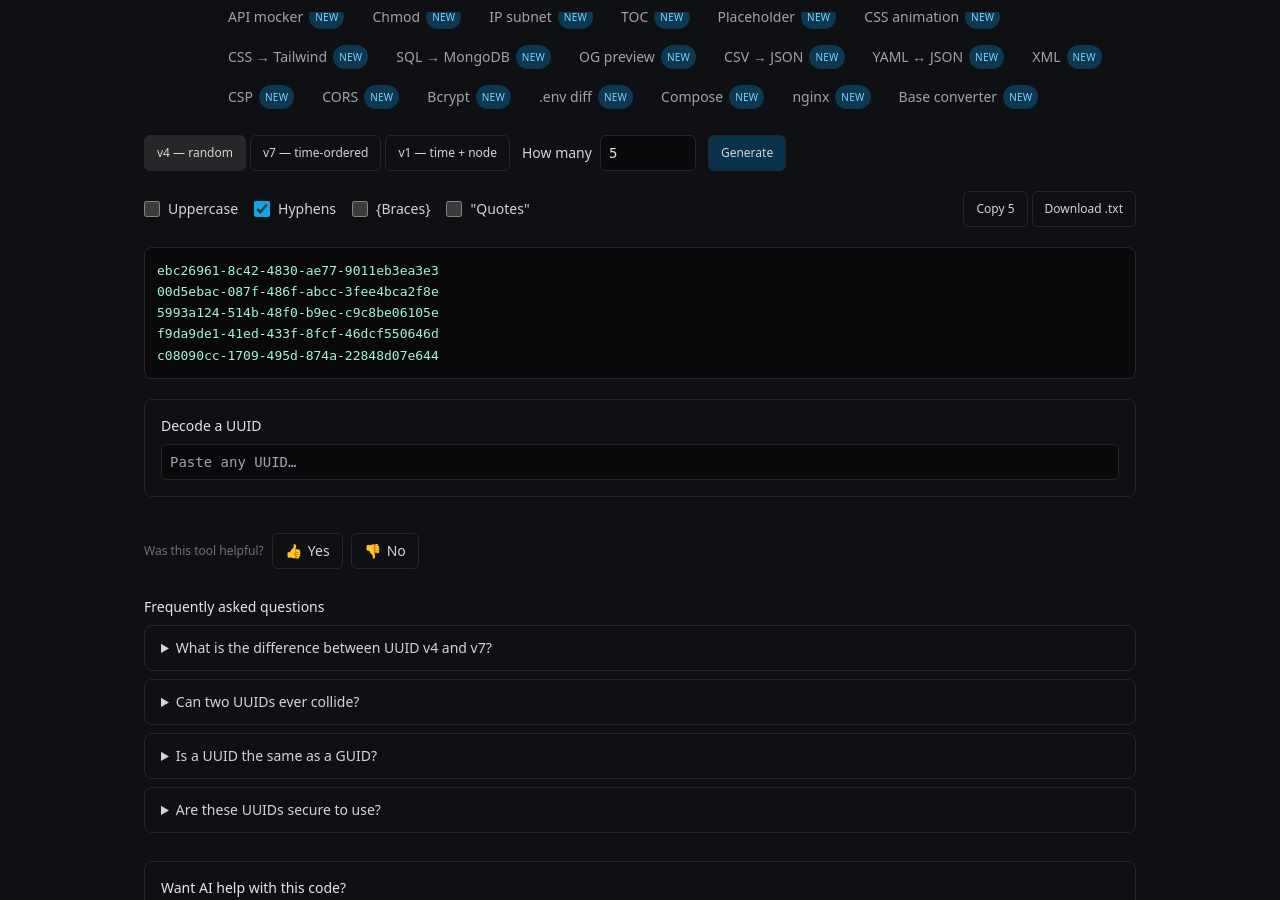
Test case: UuidPage › decodes a pasted UUID
This screenshot has width=1280, height=900.
(page scrolled)
Type "017f22e2-79b0-7cc3-98c4-dc0c0c07398f" into the field with test id "uuid-probe" at point(640, 462), box [161,444,1119,480]
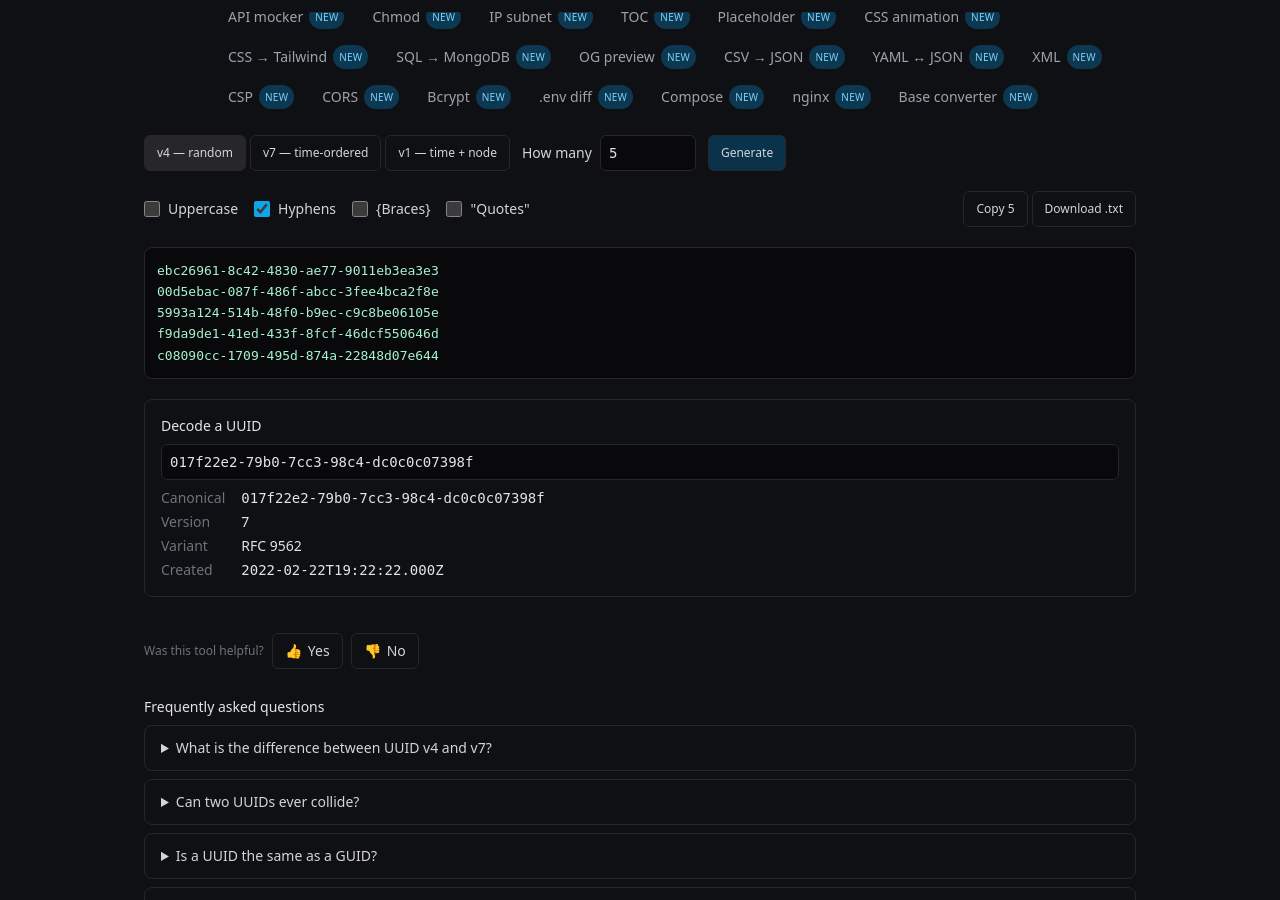
Result: the text with test id "uuid-time" reads "2022-02-22T19:22:22.000Z" at [241,562,444,578]
Replace the text in the field with test id "uuid-probe" with "nope" at point(640, 462), box [161,444,1119,480]
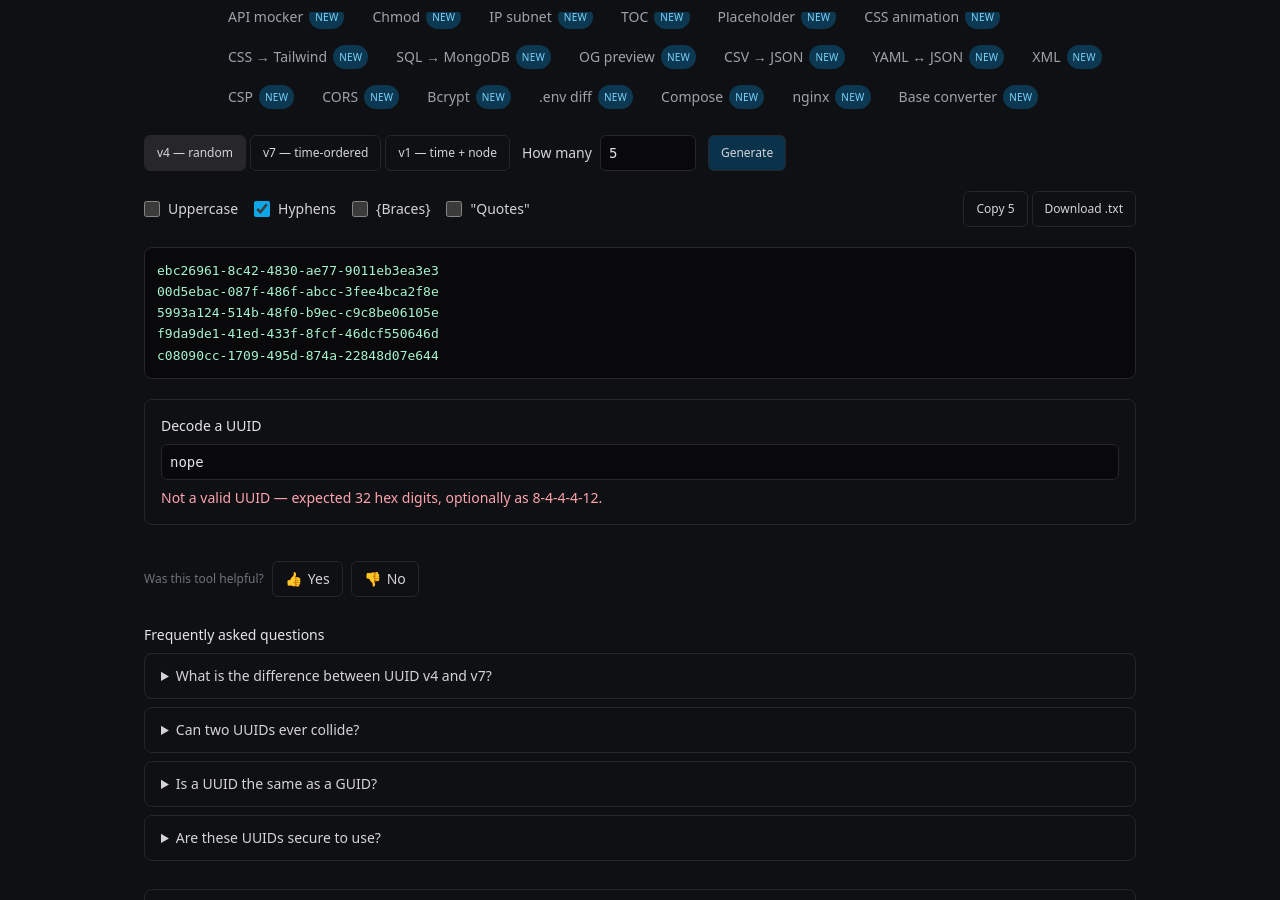
Result: the message shows "Not a valid UUID" at [161,488,602,507]
